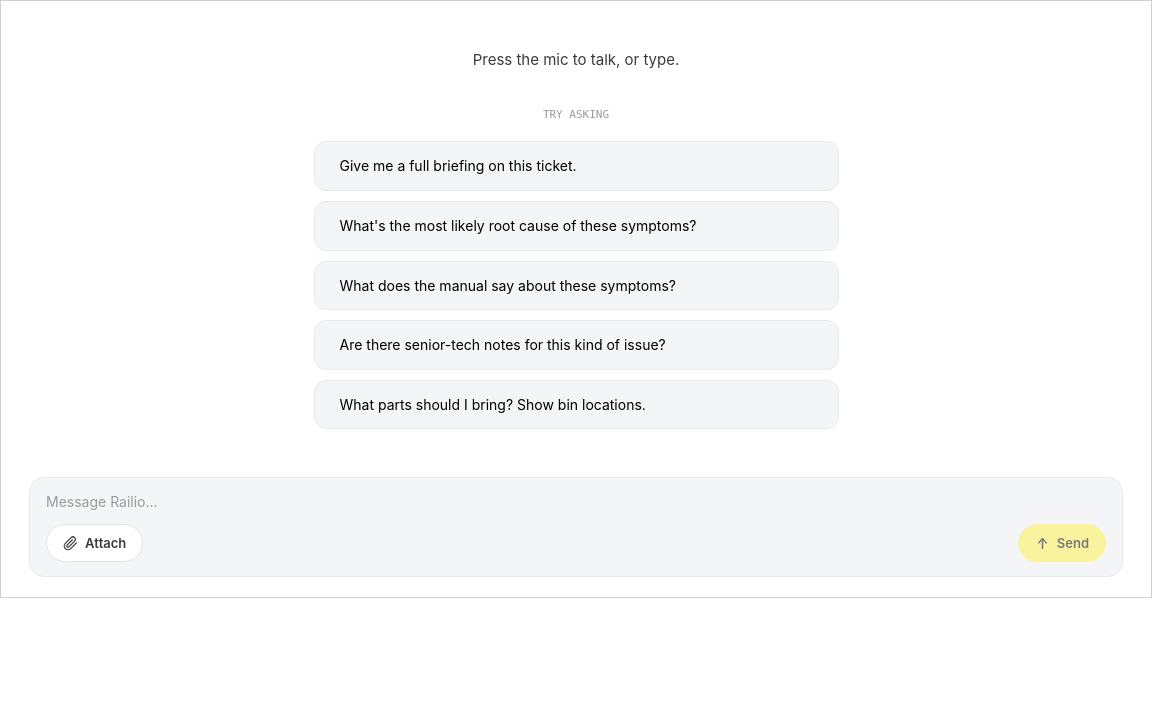
Test: ChatPane streaming › does not double-render a message that streamed and then persisted
Type "just once" into the text box with placeholder "Message Railio…" at (576, 502), box [46,492,1106,512]
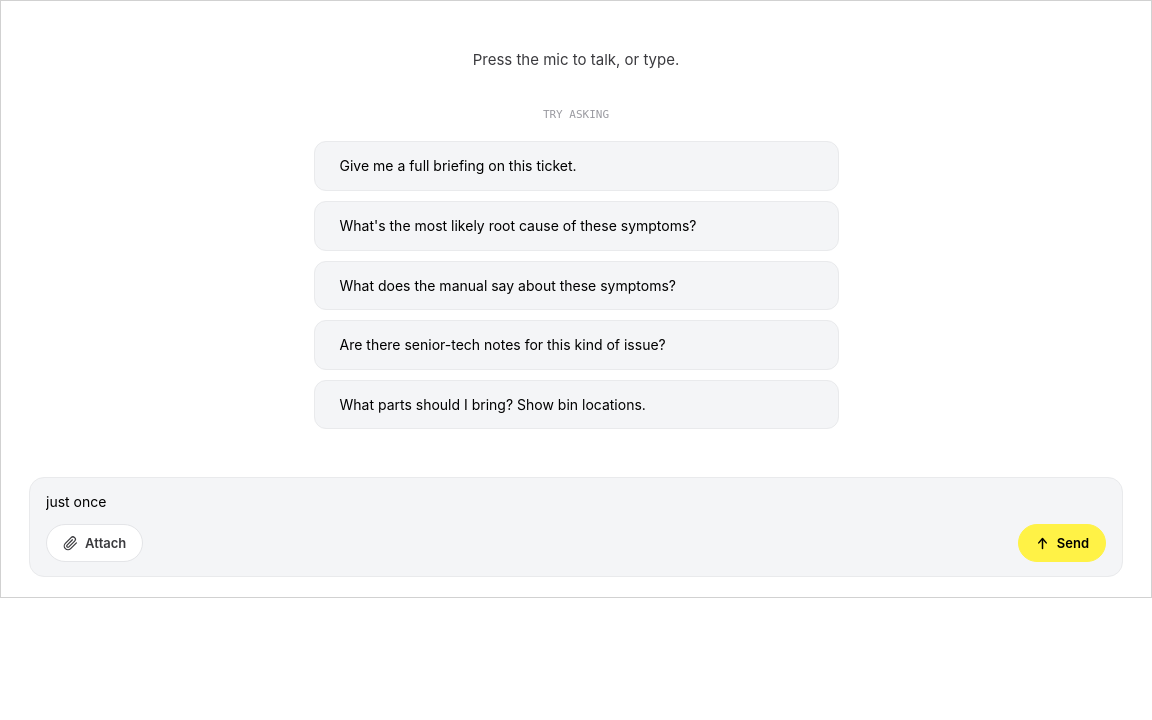
Click the button labelled "Send" at (1062, 543), box [1018,524,1106,562]
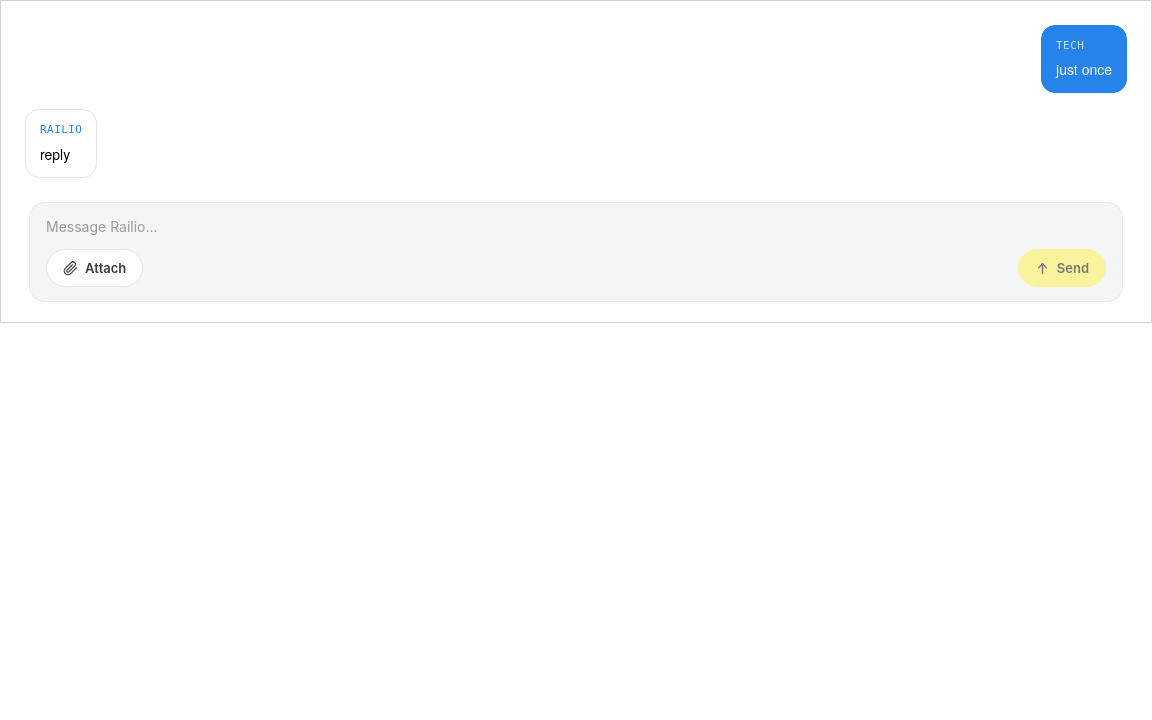
Expected: the text "reply" is shown once, [40,144,70,164]
Expected: the text "just once" is shown once, [1056,59,1112,80]
